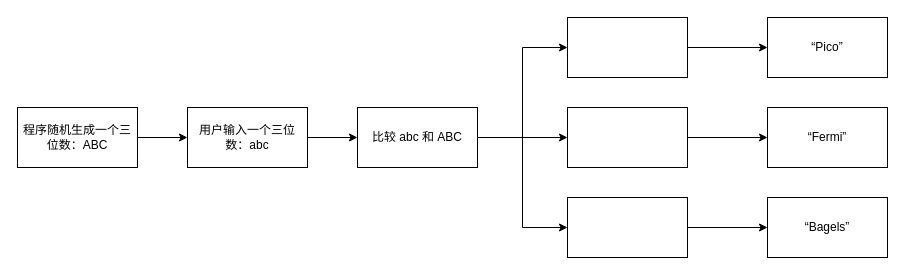
Some shapes in this 905 by 275 pixel diagram are drawn without their labels. Each missing label, with the box of its shape:
如果 B 中有 A 中的数字、且相关数字在正确的位置上: (566, 106, 688, 168)
如果 B 中有 A 中的数据、但是相关数字在错误的位置: (566, 16, 688, 78)
如果 B 中没有 A 中的数字: (566, 196, 688, 258)
